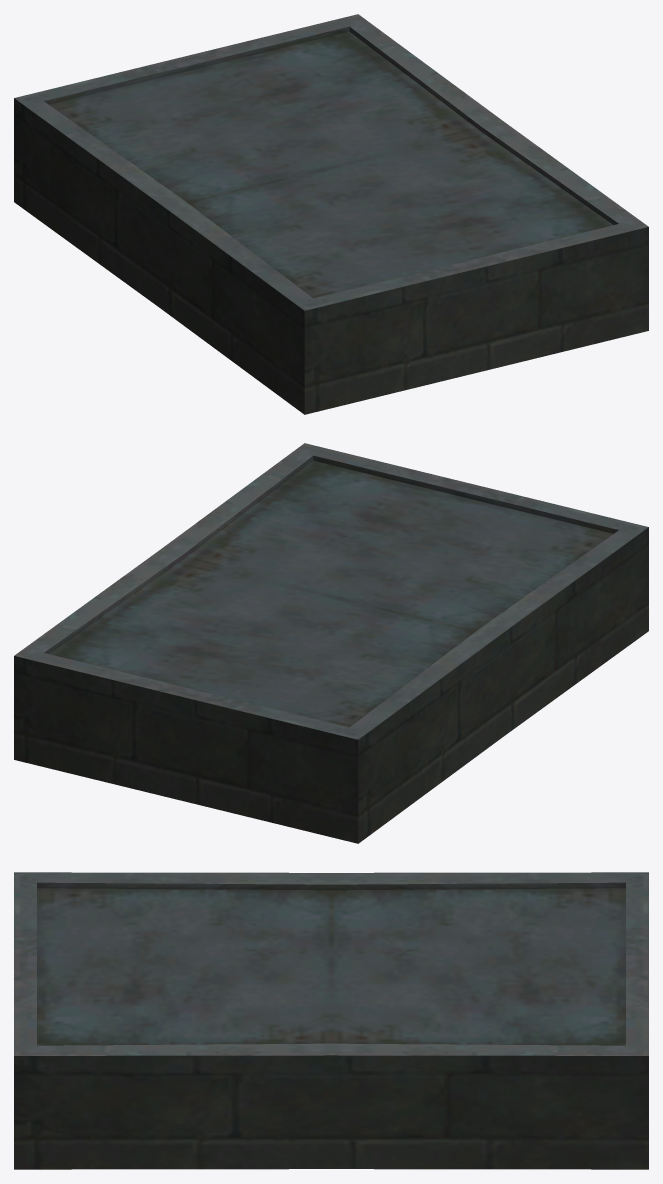
The model's file is environment_common_xingju01_a.FBX.
The picture shows the model from 3 angles, top to bottom: view 1: azimuth 30°, elevation 25°; view 2: azimuth 150°, elevation 25°; view 3: azimuth 270°, elevation 25°; orthographic projection. The views are drawn at different scales.
Visible parts, largest first — view 1: environment_common_xingju01_a; view 2: environment_common_xingju01_a; view 3: environment_common_xingju01_a.
Part boxes in pixels (<box>): environment_common_xingju01_a: <box>14,14,648,414</box>; environment_common_xingju01_a: <box>14,443,648,843</box>; environment_common_xingju01_a: <box>14,872,648,1169</box>.
Bounding box in the file's own units: 259 × 74.78 × 379.
